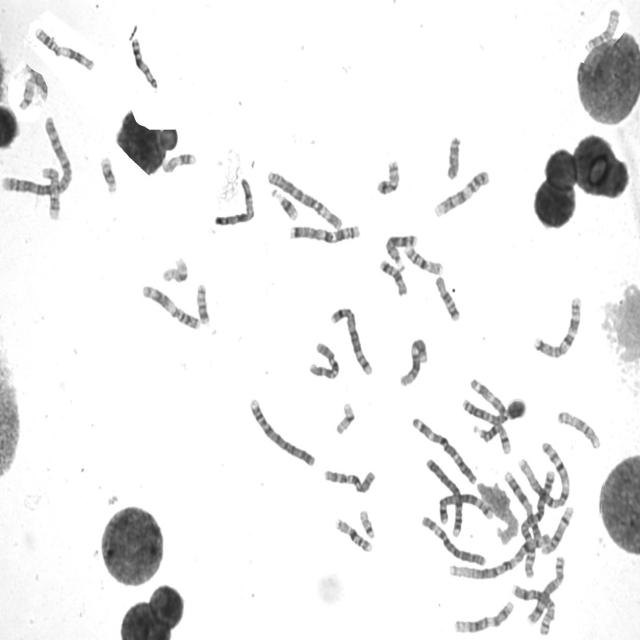A1: (445, 530, 552, 581), (516, 438, 572, 510)
A2: (0, 113, 75, 198), (518, 467, 556, 580)
A3: (408, 413, 478, 486), (464, 374, 510, 426)
B4: (246, 394, 318, 468), (423, 456, 465, 538)
B5: (328, 303, 374, 377), (436, 489, 496, 526)
C10: (321, 465, 377, 495), (307, 339, 341, 381)
C11: (32, 23, 97, 72), (140, 281, 202, 331)
C12: (451, 597, 516, 634), (397, 334, 430, 388)
C6: (265, 166, 345, 231), (418, 512, 488, 568)
C7: (531, 292, 583, 360), (287, 220, 362, 244)
C8: (524, 554, 567, 626), (509, 581, 556, 637)
C9: (432, 167, 491, 219), (502, 470, 542, 540)
D13: (129, 35, 160, 92), (382, 230, 418, 268)
D14: (539, 502, 576, 556), (470, 421, 513, 455)
D15: (555, 407, 603, 451), (583, 5, 622, 52)
E16: (332, 515, 374, 554), (402, 242, 445, 276)
E17: (38, 162, 62, 222), (160, 149, 197, 175)
E18: (432, 273, 462, 323), (377, 256, 409, 298)
F19: (332, 398, 357, 436), (160, 253, 190, 284)
F20: (374, 156, 401, 196), (194, 280, 211, 326)
G21: (268, 184, 300, 222), (97, 153, 119, 196)
G22: (16, 75, 36, 112), (357, 506, 377, 540)
X: (211, 174, 256, 228)
Y: (444, 133, 463, 181)
